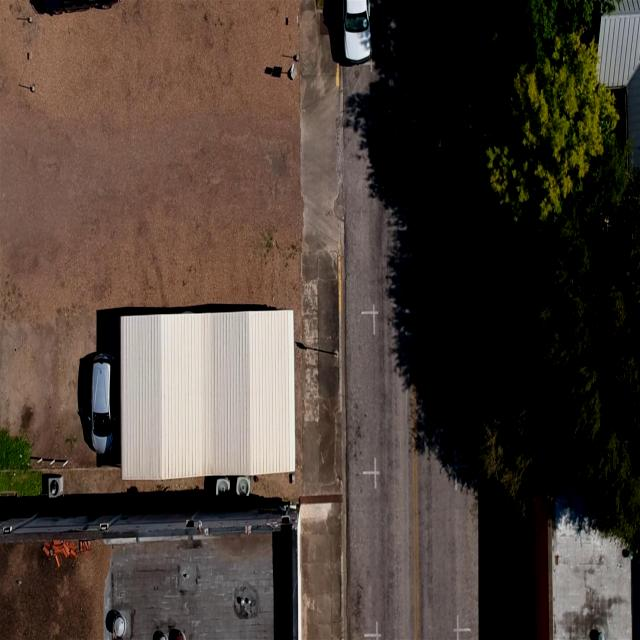Car: (85, 343, 117, 464)
